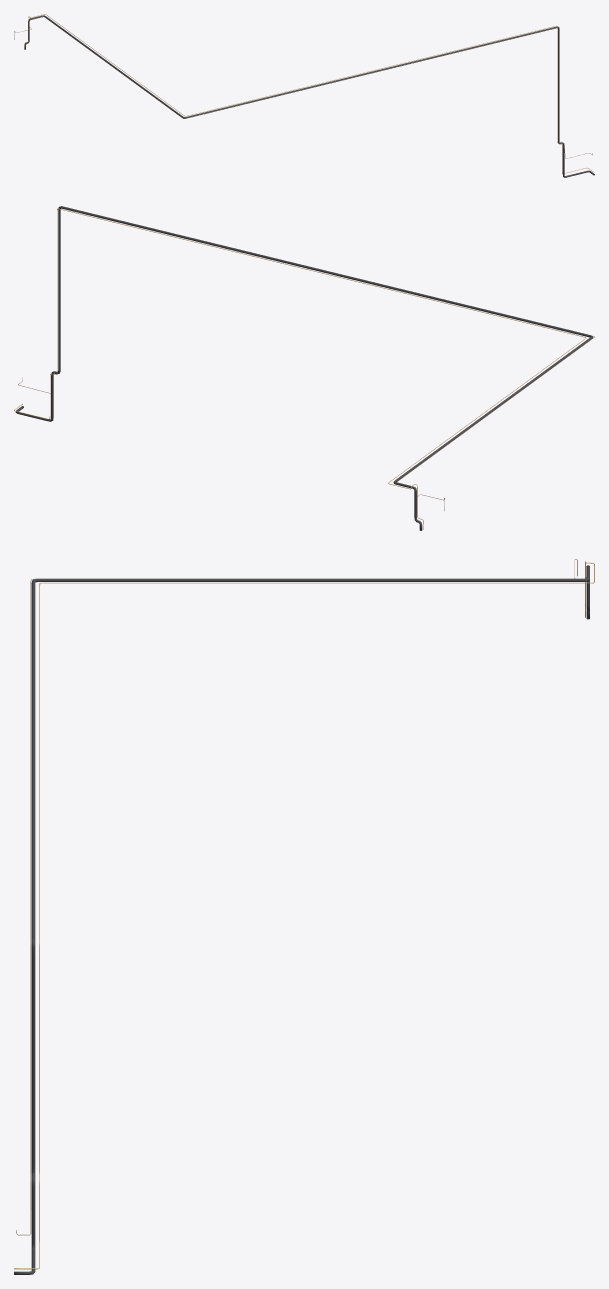
The model's file is pipes_hvac__hvac-split_furnace_98.glb.
3 views of the same model, one above another, from view 1: azimuth 30°, elevation 25°; view 2: azimuth 150°, elevation 25°; view 3: azimuth 270°, elevation 25° (orthographic). The views are drawn at different scales.
Visible parts, largest first — view 1: pipe_hvac_lineset_suction_rd18ay36, pipe_hvac_lineset_liquid_rd18ay36, pipe_hvac_lineset_tstat_cable_rd18ay36; view 2: pipe_hvac_lineset_suction_rd18ay36, pipe_hvac_lineset_liquid_rd18ay36; view 3: pipe_hvac_lineset_suction_rd18ay36, pipe_hvac_lineset_liquid_rd18ay36, pipe_hvac_lineset_tstat_cable_rd18ay36.
Boxes of the visible parts, left/top/right/bottom form: pipe_hvac_lineset_suction_rd18ay36: left=24, top=15, right=594, bottom=177; pipe_hvac_lineset_liquid_rd18ay36: left=24, top=14, right=593, bottom=173; pipe_hvac_lineset_tstat_cable_rd18ay36: left=14, top=16, right=592, bottom=158; pipe_hvac_lineset_suction_rd18ay36: left=15, top=206, right=593, bottom=530; pipe_hvac_lineset_liquid_rd18ay36: left=14, top=208, right=586, bottom=529; pipe_hvac_lineset_suction_rd18ay36: left=14, top=565, right=589, bottom=1274; pipe_hvac_lineset_liquid_rd18ay36: left=14, top=561, right=594, bottom=1269; pipe_hvac_lineset_tstat_cable_rd18ay36: left=16, top=559, right=586, bottom=1235.
Bounding box in the file's own units: 12 × 4.04 × 6.94.
